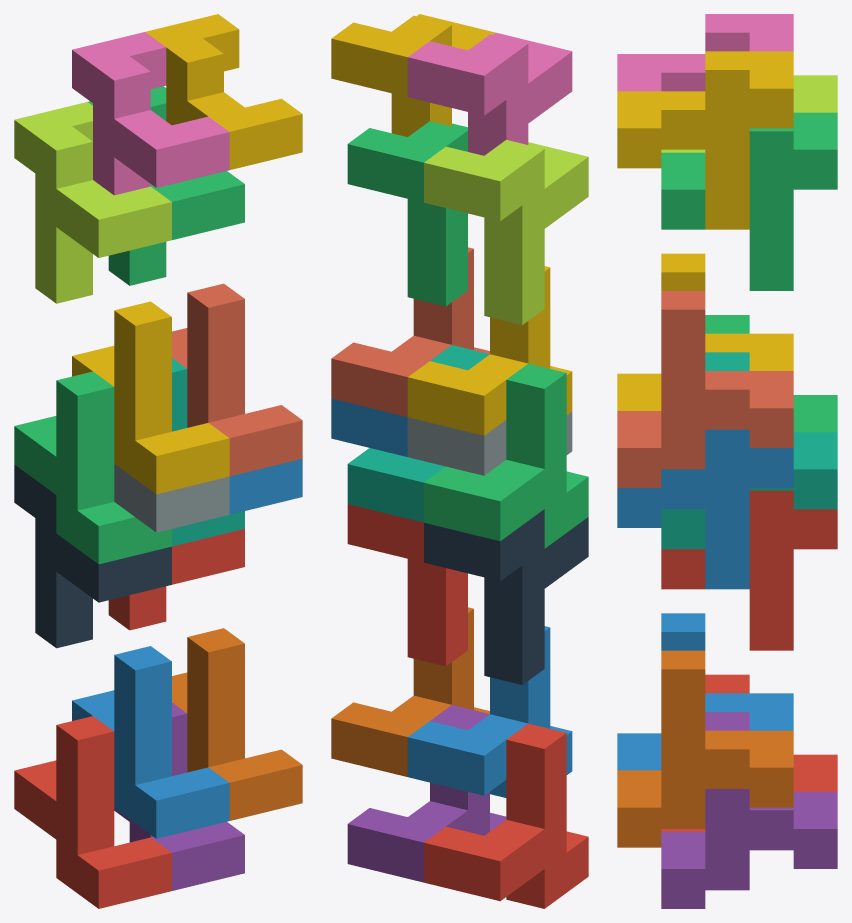
The model's file is tiling.obj.
The picture shows the model from 3 angles, left to right: view 1: azimuth 30°, elevation 25°; view 2: azimuth 150°, elevation 25°; view 3: azimuth 270°, elevation 25°; orthographic projection. The views are drawn at different scales.
Parts seen in each view (by area): view 1: copy_2_domain_3, copy_1_domain_1, copy_2_domain_4, copy_1_domain_3, copy_1_domain_2, copy_1_domain_4, copy_1_domain_8, copy_1_domain_6, copy_2_domain_8, copy_2_domain_1, copy_2_domain_7, copy_1_domain_5 (+4 smaller); view 2: copy_2_domain_3, copy_1_domain_1, copy_1_domain_3, copy_2_domain_1, copy_2_domain_4, copy_2_domain_7, copy_1_domain_2, copy_1_domain_4, copy_2_domain_5, copy_1_domain_8, copy_1_domain_6, copy_1_domain_5 (+4 smaller); view 3: copy_1_domain_6, copy_2_domain_8, copy_1_domain_8, copy_1_domain_5, copy_2_domain_7, copy_2_domain_6, copy_2_domain_5, copy_2_domain_4, copy_1_domain_7, copy_1_domain_4, copy_1_domain_2, copy_1_domain_1 (+2 smaller).
Part boxes in pixels (left/top/right/bottom): copy_2_domain_3: left=14, top=102, right=171, bottom=303; copy_1_domain_1: left=14, top=716, right=171, bottom=908; copy_2_domain_4: left=72, top=32, right=229, bottom=195; copy_1_domain_3: left=14, top=371, right=171, bottom=564; copy_1_domain_2: left=72, top=646, right=229, bottom=838; copy_1_domain_4: left=72, top=301, right=229, bottom=494; copy_1_domain_8: left=172, top=283, right=302, bottom=476; copy_1_domain_6: left=172, top=628, right=302, bottom=820; copy_2_domain_8: left=145, top=14, right=302, bottom=169; copy_2_domain_1: left=14, top=464, right=171, bottom=648; copy_2_domain_7: left=88, top=86, right=244, bottom=285; copy_1_domain_5: left=114, top=702, right=244, bottom=890; copy_2_domain_3: left=424, top=140, right=588, bottom=324; copy_1_domain_1: left=424, top=723, right=588, bottom=908; copy_1_domain_3: left=424, top=363, right=588, bottom=548; copy_2_domain_1: left=424, top=509, right=588, bottom=684; copy_2_domain_4: left=407, top=32, right=572, bottom=155; copy_2_domain_7: left=347, top=121, right=467, bottom=306; copy_1_domain_2: left=407, top=626, right=572, bottom=797; copy_1_domain_4: left=407, top=266, right=572, bottom=435; copy_2_domain_5: left=347, top=504, right=467, bottom=666; copy_1_domain_8: left=331, top=247, right=489, bottom=416; copy_1_domain_6: left=331, top=607, right=489, bottom=776; copy_1_domain_5: left=347, top=705, right=506, bottom=882; copy_1_domain_6: left=617, top=650, right=793, bottom=847; copy_2_domain_8: left=617, top=51, right=793, bottom=229; copy_1_domain_8: left=617, top=291, right=793, bottom=487; copy_1_domain_5: left=661, top=712, right=837, bottom=908; copy_2_domain_7: left=661, top=112, right=837, bottom=290; copy_2_domain_6: left=617, top=429, right=793, bottom=589; copy_2_domain_5: left=661, top=490, right=837, bottom=650; copy_2_domain_4: left=617, top=14, right=793, bottom=91; copy_1_domain_7: left=661, top=352, right=837, bottom=549; copy_1_domain_4: left=617, top=253, right=793, bottom=410; copy_1_domain_2: left=617, top=613, right=793, bottom=770; copy_1_domain_1: left=661, top=674, right=837, bottom=831.
Bounding box in the file's own units: 5 × 21 × 5.
